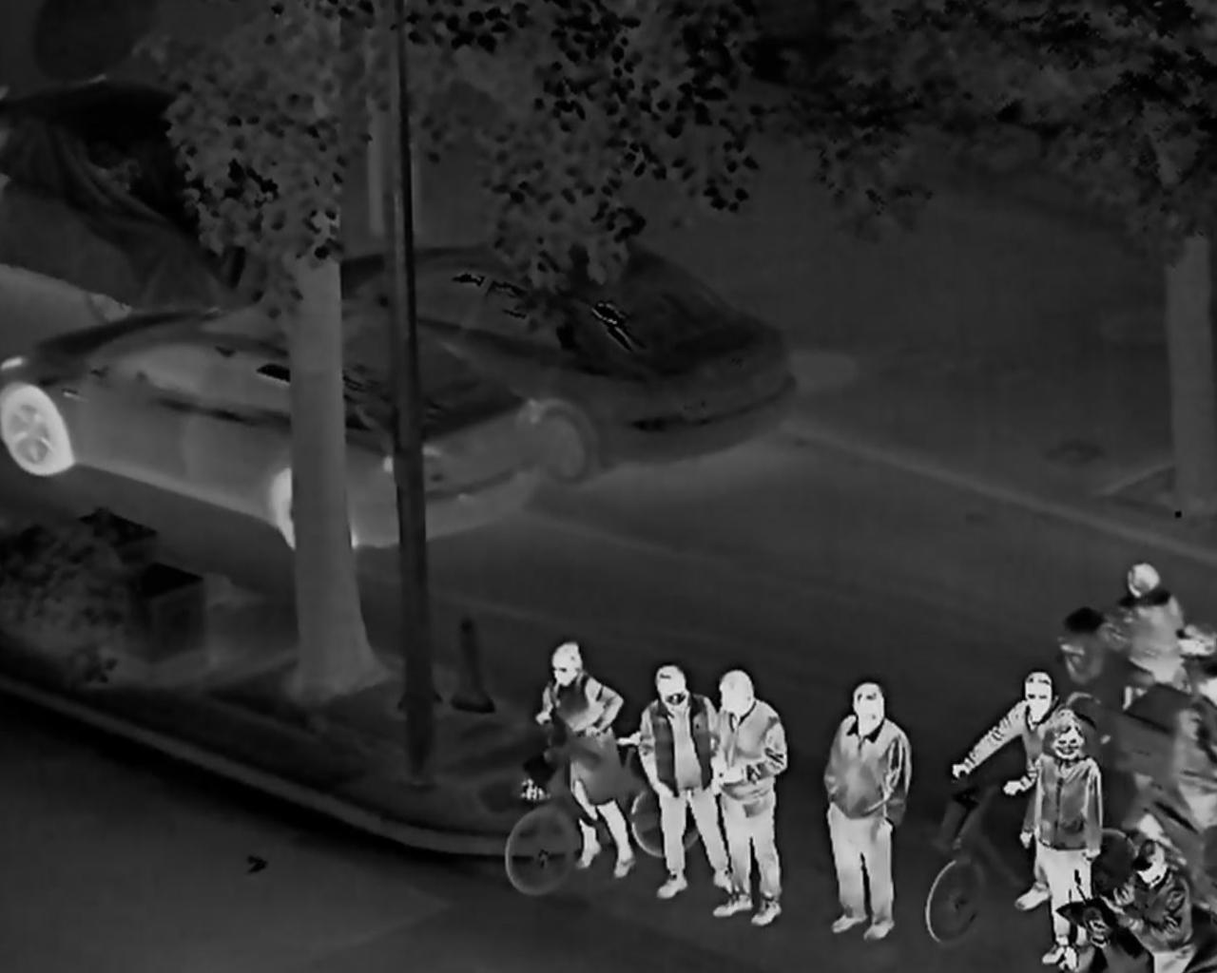person: (952, 669, 1083, 915), (819, 680, 913, 942), (539, 639, 639, 880), (633, 664, 736, 895), (707, 674, 788, 923), (1035, 713, 1107, 973), (1096, 559, 1190, 728), (1111, 840, 1194, 973)
